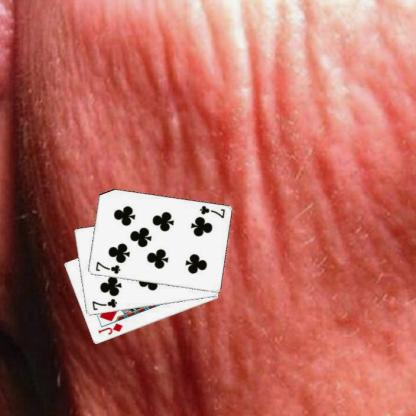7C: (196, 203, 226, 219), (89, 296, 118, 312), (93, 259, 121, 275)
JD: (95, 321, 124, 336)
